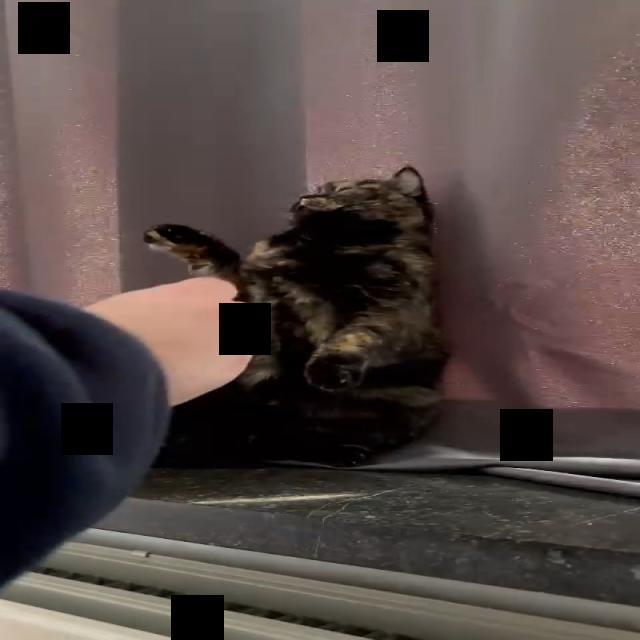authorized: (140, 165, 451, 468)
